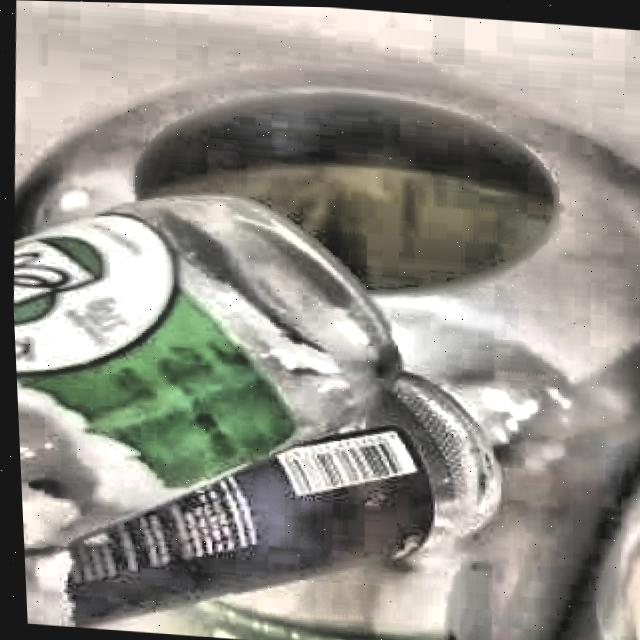glass: (11, 193, 494, 627)
